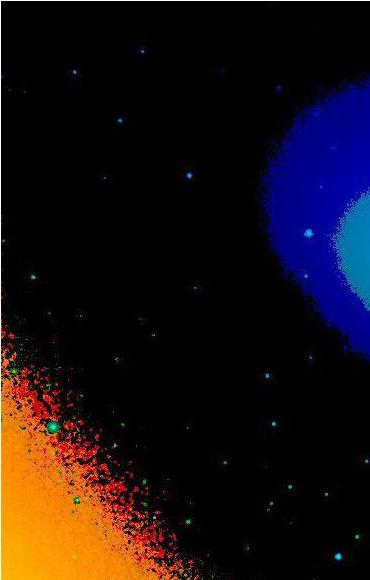star: (170, 267, 200, 297)
